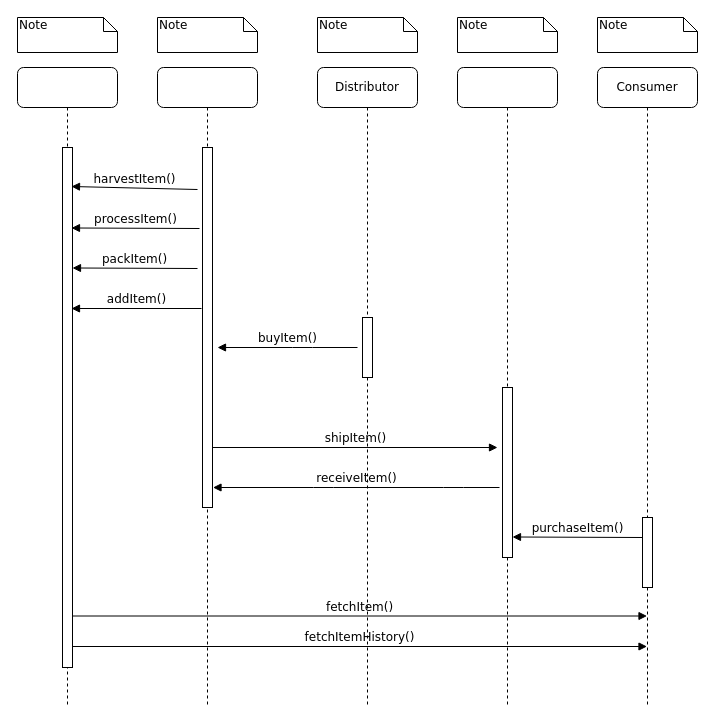
Some shapes in this 715 by 725 pixel diagram are drawn without their labels. Each missing label, with the box of its shape:
Coffee: (16, 66, 118, 708)
Farmer: (156, 66, 258, 708)
Retailer: (456, 66, 558, 708)
